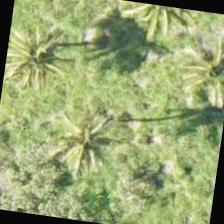Kelapa_Sawit: (38, 87, 140, 189), (2, 2, 81, 100)
